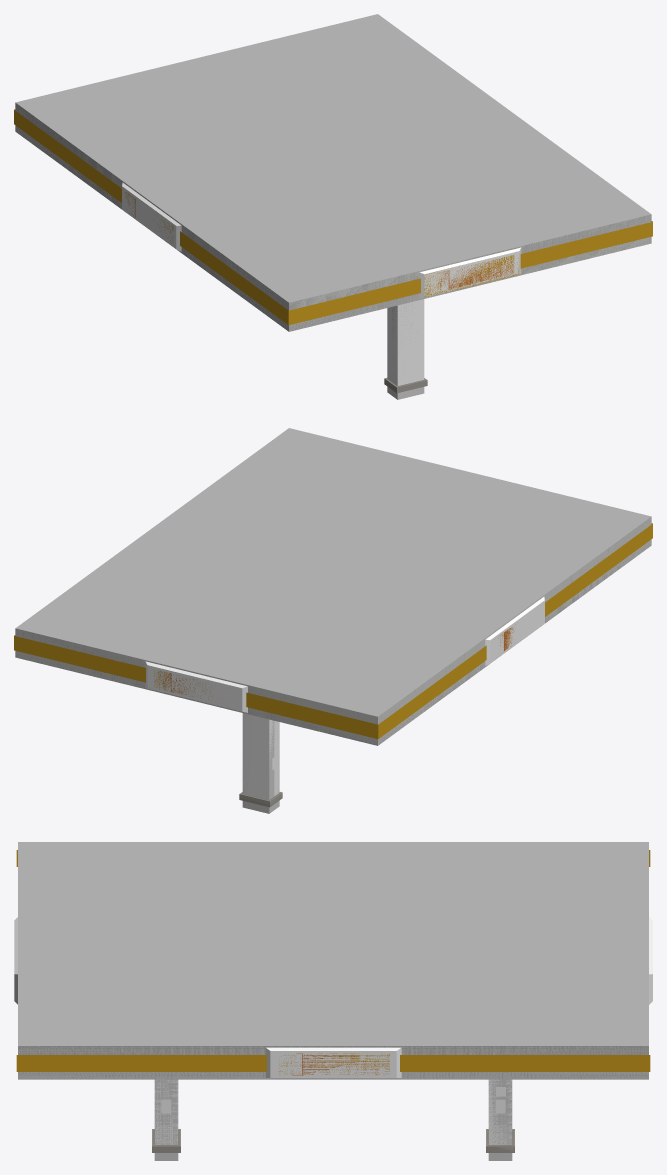
Rendered from s_fuel_structure_04.dae.
3 renders of one model, top to bottom at view 1: azimuth 30°, elevation 25°; view 2: azimuth 150°, elevation 25°; view 3: azimuth 270°, elevation 25°, orthographic. The views are drawn at different scales.
Visible parts, largest first — view 1: s_fuel_structure_04_L40, s_fuel_structure_04_L200, s_fuel_structure_04_L3000, Colmesh_s_fuel_structure_04-1, s_fuel_structure_04_L1500, s_fuel_structure_04_L700; view 2: s_fuel_structure_04_L40, s_fuel_structure_04_L200, Colmesh_s_fuel_structure_04-1, s_fuel_structure_04_L3000, s_fuel_structure_04_L1500, s_fuel_structure_04_L700; view 3: s_fuel_structure_04_L40, s_fuel_structure_04_L200, Colmesh_s_fuel_structure_04-1, s_fuel_structure_04_L3000, s_fuel_structure_04_L1500, s_fuel_structure_04_L700.
Part boxes in pixels (bbox=[...]): s_fuel_structure_04_L40: bbox=[15, 14, 651, 399]; s_fuel_structure_04_L200: bbox=[14, 103, 652, 331]; s_fuel_structure_04_L3000: bbox=[125, 192, 519, 392]; Colmesh_s_fuel_structure_04-1: bbox=[17, 14, 650, 302]; s_fuel_structure_04_L1500: bbox=[141, 207, 427, 393]; s_fuel_structure_04_L700: bbox=[387, 252, 519, 385]; s_fuel_structure_04_L40: bbox=[15, 428, 651, 813]; s_fuel_structure_04_L200: bbox=[14, 516, 652, 799]; Colmesh_s_fuel_structure_04-1: bbox=[16, 428, 649, 716]; s_fuel_structure_04_L3000: bbox=[154, 605, 541, 807]; s_fuel_structure_04_L1500: bbox=[239, 637, 503, 806]; s_fuel_structure_04_L700: bbox=[242, 715, 279, 799]; s_fuel_structure_04_L40: bbox=[18, 842, 648, 1160]; s_fuel_structure_04_L200: bbox=[16, 850, 650, 1079]; Colmesh_s_fuel_structure_04-1: bbox=[14, 842, 652, 1077]; s_fuel_structure_04_L3000: bbox=[152, 1053, 514, 1152]; s_fuel_structure_04_L1500: bbox=[152, 1053, 514, 1152]; s_fuel_structure_04_L700: bbox=[154, 1079, 512, 1144].
Size of the model in its own units: 13.21 by 17.21 by 6.22.
